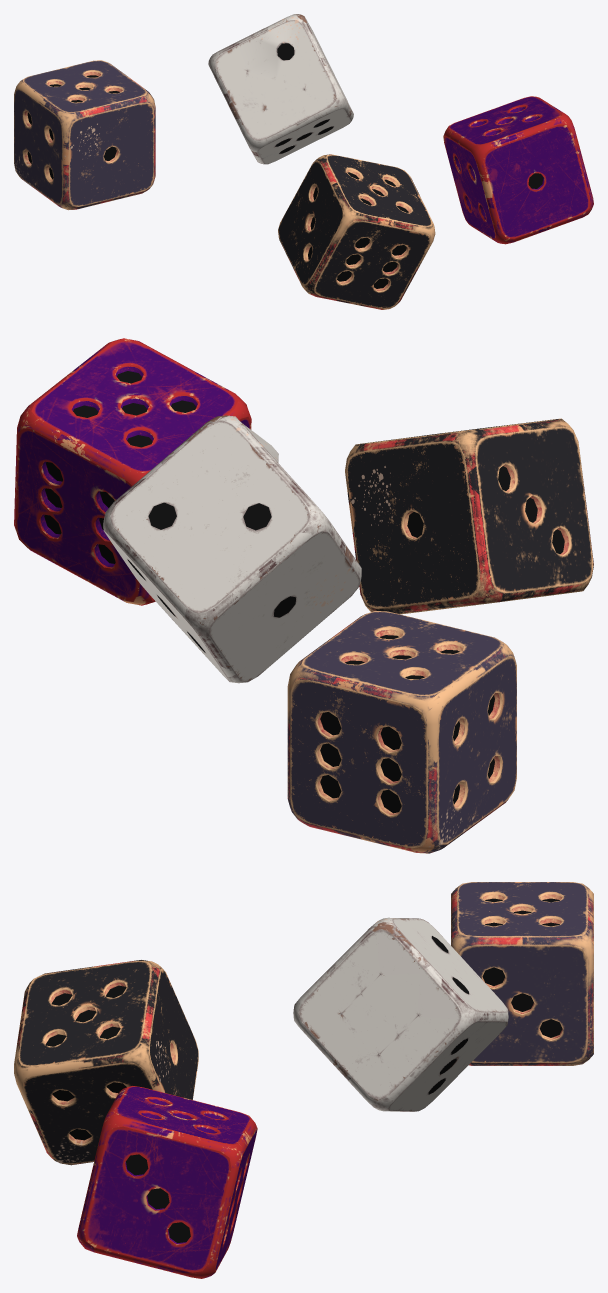
Rendered from DiceFix.fbx.
3 views of the same model, one above another, from view 1: azimuth 30°, elevation 25°; view 2: azimuth 150°, elevation 25°; view 3: azimuth 270°, elevation 25° (orthographic). The views are drawn at different scales.
Parts seen in each view (by area): view 1: dice_01, dice_02, dice_00, dice_03; view 2: dice_02, dice_03, dice_01, dice_00; view 3: dice_03, dice_01, dice_00, dice_02.
Boxes of the visible parts, x1,y1,x2,y2 form: dice_01: (278, 154, 435, 309); dice_02: (14, 60, 155, 210); dice_00: (443, 96, 593, 244); dice_03: (208, 14, 353, 164); dice_02: (287, 611, 516, 853); dice_03: (103, 415, 361, 683); dice_01: (345, 418, 593, 614); dice_00: (14, 338, 251, 605); dice_03: (293, 917, 508, 1111); dice_01: (14, 960, 198, 1165); dice_00: (77, 1086, 257, 1278); dice_02: (451, 882, 593, 1065).
Size of the model in its own units: 869 by 404 by 812.
